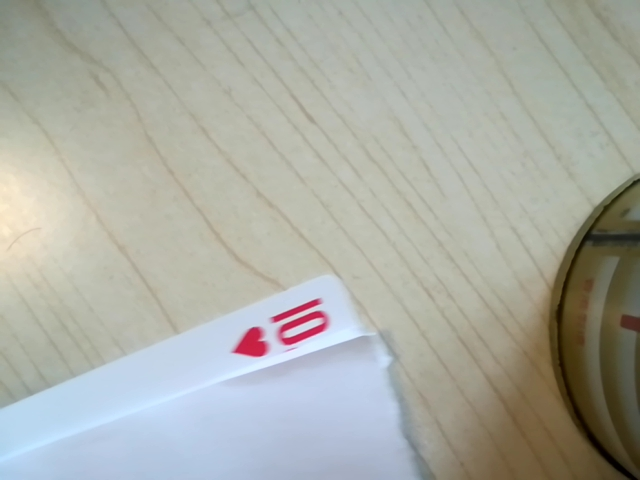hx 10: (220, 294, 347, 368)
